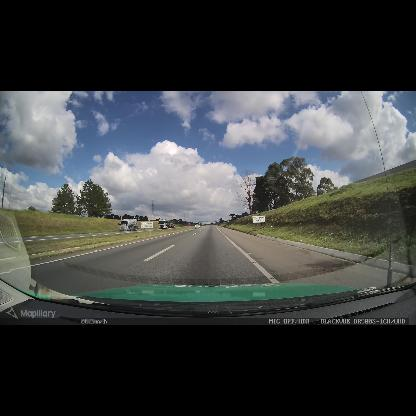I-SA: (140, 221, 153, 229), (252, 215, 265, 223)
